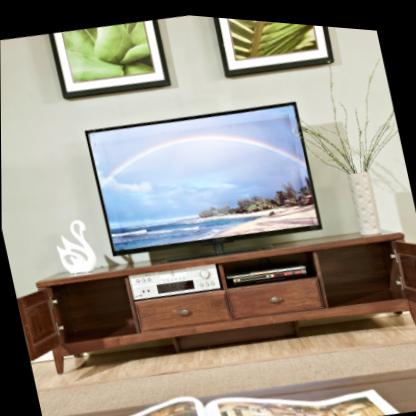Carpet: (38, 335, 416, 416)
Frame: (45, 16, 171, 96), (212, 14, 333, 72)
TV stand: (33, 190, 416, 396)
